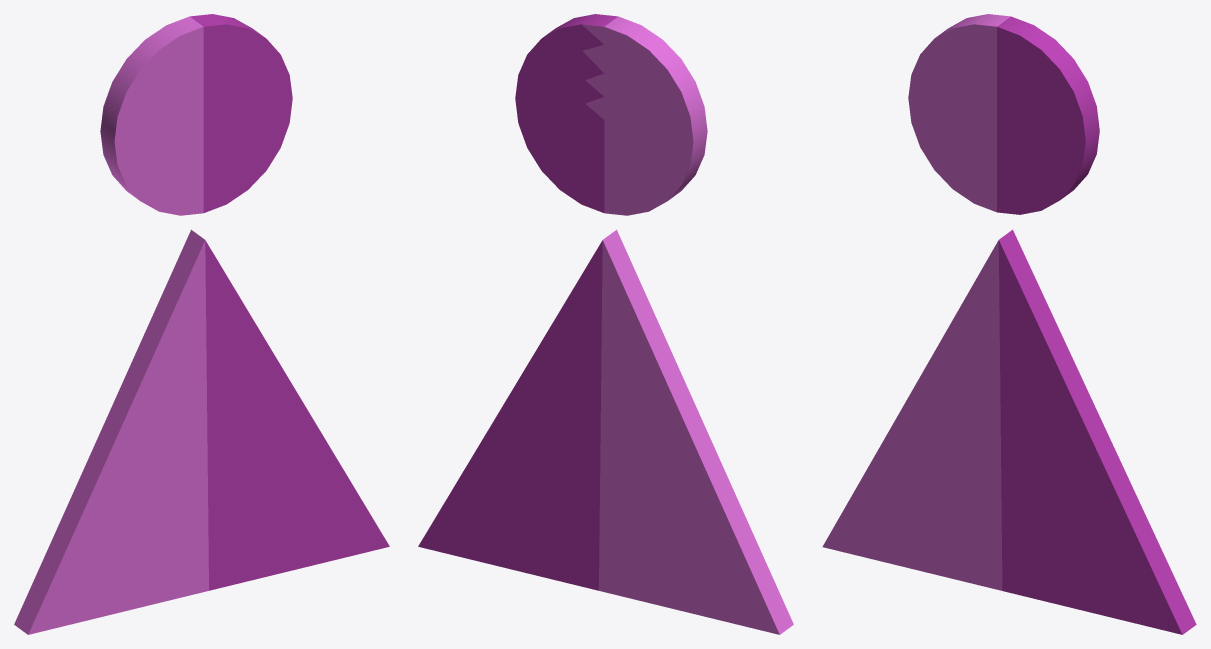
Rendered from Icono mujer.fbx.
3 renders of one model, left to right at view 1: azimuth 30°, elevation 25°; view 2: azimuth 150°, elevation 25°; view 3: azimuth 330°, elevation 25°, orthographic.
Visible parts, largest first — view 1: polySurface25; view 2: polySurface25; view 3: polySurface25.
Boxes of the visible parts, x1,y1,x2,y2 form: polySurface25: (14,14,389,634); polySurface25: (418,14,793,634); polySurface25: (822,14,1196,634).
Bounding box in the file's own units: 1.82 × 2.72 × 0.123.
